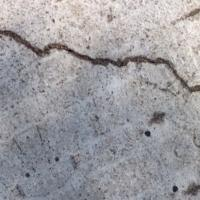crack: (0, 17, 199, 115)
